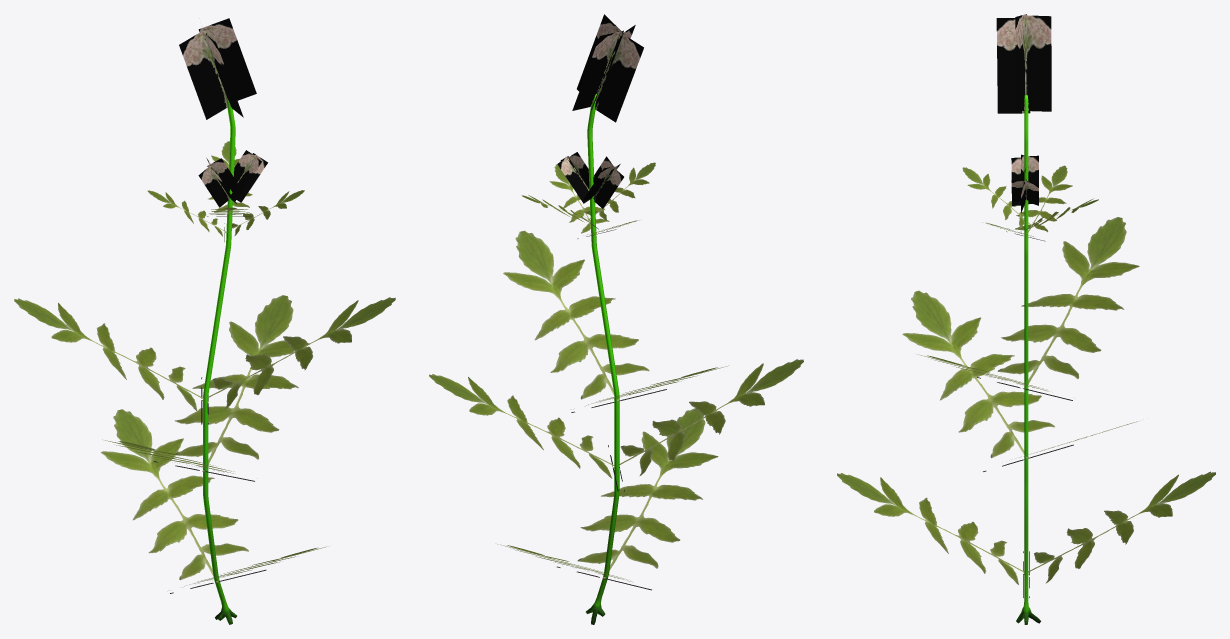
The model's file is valeriana.fbx.
3 views of the same model, side by side, from view 1: azimuth 30°, elevation 25°; view 2: azimuth 150°, elevation 25°; view 3: azimuth 270°, elevation 25° (orthographic).
Parts seen in each view (by area): view 1: valerianaFolha, valerianaFlor, valeriana; view 2: valerianaFolha, valerianaFlor, valeriana; view 3: valerianaFolha, valerianaFlor, valeriana.
Part boxes in pixels (x1=…): valerianaFolha: x1=14, y1=141, x2=395, y2=593; valerianaFlor: x1=179, y1=18, x2=267, y2=207; valeriana: x1=203, y1=98, x2=236, y2=624; valerianaFolha: x1=429, y1=162, x2=803, y2=590; valerianaFlor: x1=557, y1=14, x2=643, y2=208; valeriana: x1=586, y1=94, x2=619, y2=624; valerianaFolha: x1=837, y1=165, x2=1215, y2=597; valerianaFlor: x1=996, y1=14, x2=1051, y2=212; valeriana: x1=1016, y1=95, x2=1040, y2=624.
Size of the model in its own units: 172 by 300 by 170.
